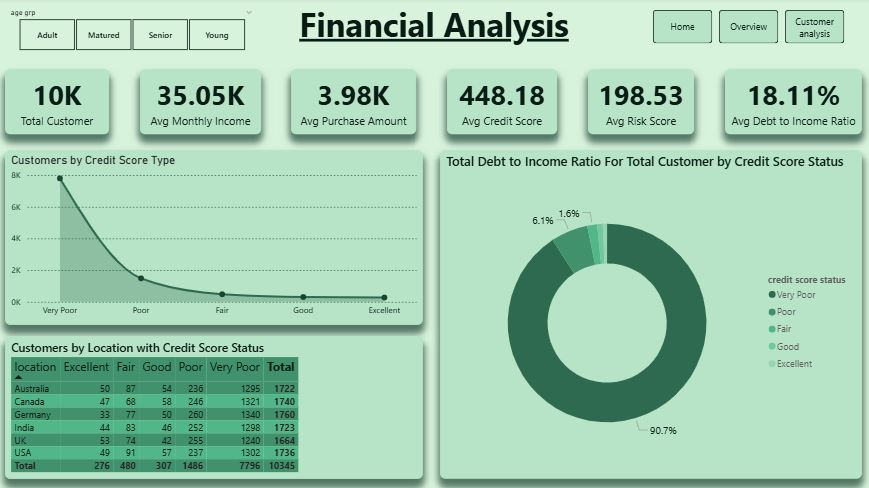

Layout of this report page (visuals, bound fields, positions):
{"tool":"powerbi","page":{"name":"Financial analysis","canvas":[1280,720],"ordinal":2},"visuals":[{"type":"lineChart","title":"Customers by Credit Score Type","fields":{"Y":["CountNonNull(Buy_Now_Pay_Later_BNPL_CreditRisk_Dataset.user_id)"],"Category":["Buy_Now_Pay_Later_BNPL_CreditRisk_Dataset.credit score status"]},"box":[10.3,223.3,614.2,257.1],"z":0},{"type":"donutChart","title":"Total Debt to Income Ratio For Total Customer by Credit Score Status","fields":{"Category":["Buy_Now_Pay_Later_BNPL_CreditRisk_Dataset.credit score status"],"Y":["Sum(Buy_Now_Pay_Later_BNPL_CreditRisk_Dataset.debt_to_income_ratio)"]},"box":[649.5,223.3,620.1,483.4],"z":1000},{"type":"pivotTable","title":"Customers by Location with Credit Score Status","fields":{"Rows":["Buy_Now_Pay_Later_BNPL_CreditRisk_Dataset.location"],"Values":["CountNonNull(Buy_Now_Pay_Later_BNPL_CreditRisk_Dataset.credit_score)"],"Columns":["Buy_Now_Pay_Later_BNPL_CreditRisk_Dataset.credit score status"]},"box":[10.3,497,614.2,210.1],"z":2000},{"type":"slicer","fields":{"Values":["Buy_Now_Pay_Later_BNPL_CreditRisk_Dataset.age grp"]},"box":[5.9,10.3,380.6,73.5],"z":3000},{"type":"textbox","box":[406.4,0,467.3,83.8],"z":4000},{"type":"card","fields":{"Values":["Measure.total customer"]},"box":[10.3,104.3,152.8,95.5],"z":5000},{"type":"card","fields":{"Values":["Measure.avg monthly income"]},"box":[208.2,104.3,177.8,95.5],"z":6000},{"type":"card","fields":{"Values":["Measure.average purchase amt"]},"box":[431.1,104.3,183.7,95.5],"z":7000},{"type":"card","fields":{"Values":["Measure.avg credit score"]},"box":[659.9,104.3,161.6,95.5],"z":8000},{"type":"card","fields":{"Values":["Measure.avg risk score"]},"box":[866.7,104.3,155.8,95.5],"z":9000},{"type":"card","fields":{"Values":["Measure.avg debt to income ratio"]},"box":[1067.5,104.3,201.3,95.5],"z":10000},{"type":"pageNavigator","box":[962.4,17.6,282.1,50],"z":10001}]}

Visuals, with their boxes in screenshot pixels (x1, y1, x2, y2), scaled from the page's 1280x720 canvas onto the 869x488 screenshot:
"Customers by Credit Score Type" lineChart: <box>7,151,424,326</box>
"Total Debt to Income Ratio For Total Customer by Credit Score Status" donutChart: <box>441,151,862,479</box>
"Customers by Location with Credit Score Status" pivotTable: <box>7,337,424,479</box>
slicer - Buy_Now_Pay_Later_BNPL_CreditRisk_Dataset.age grp: <box>4,7,262,57</box>
textbox: <box>276,0,593,57</box>
card - Measure.total customer: <box>7,71,111,135</box>
card - Measure.avg monthly income: <box>141,71,262,135</box>
card - Measure.average purchase amt: <box>293,71,417,135</box>
card - Measure.avg credit score: <box>448,71,558,135</box>
card - Measure.avg risk score: <box>588,71,694,135</box>
card - Measure.avg debt to income ratio: <box>725,71,861,135</box>
pageNavigator: <box>653,12,845,46</box>
